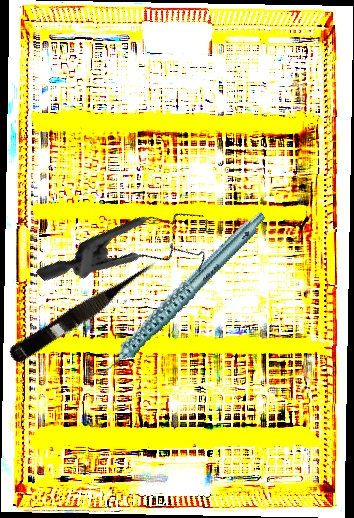Handpiece: (62, 210, 293, 383)
Micro Scissor: (6, 255, 164, 369)
Speculum: (34, 159, 230, 354)
